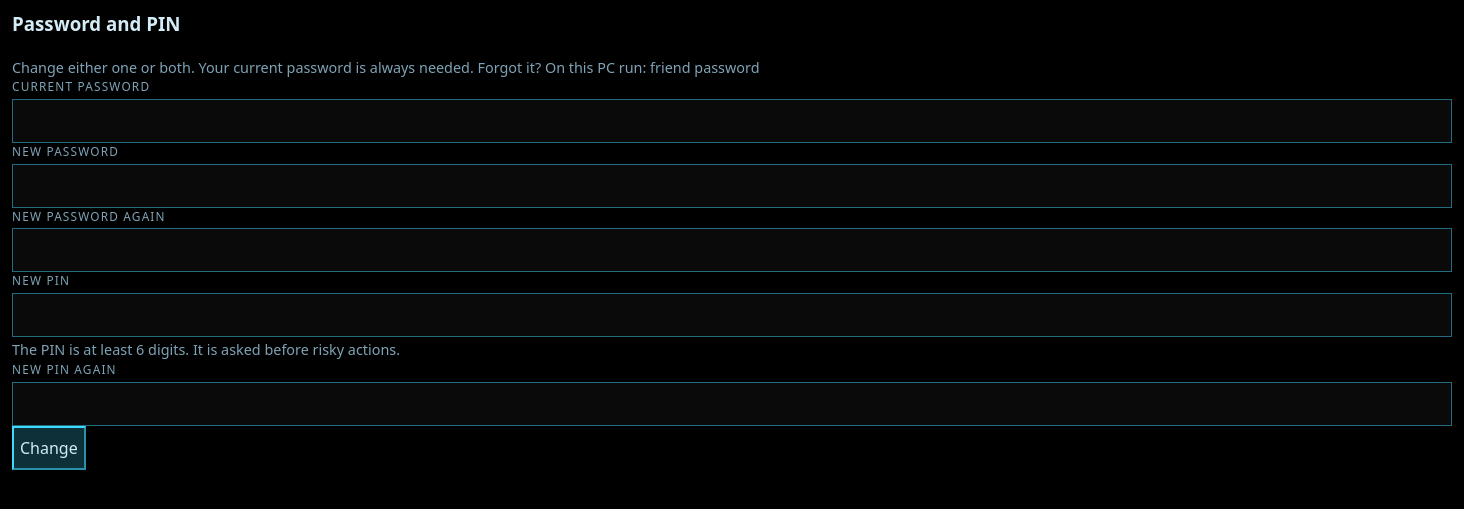
Test case: <SecurityTab> › sends the current password and a new password, says it worked and clears the boxes
Type "old password" into the password field labelled "Current password" at (732, 121), box x1=12 y1=99 x2=1452 y2=143
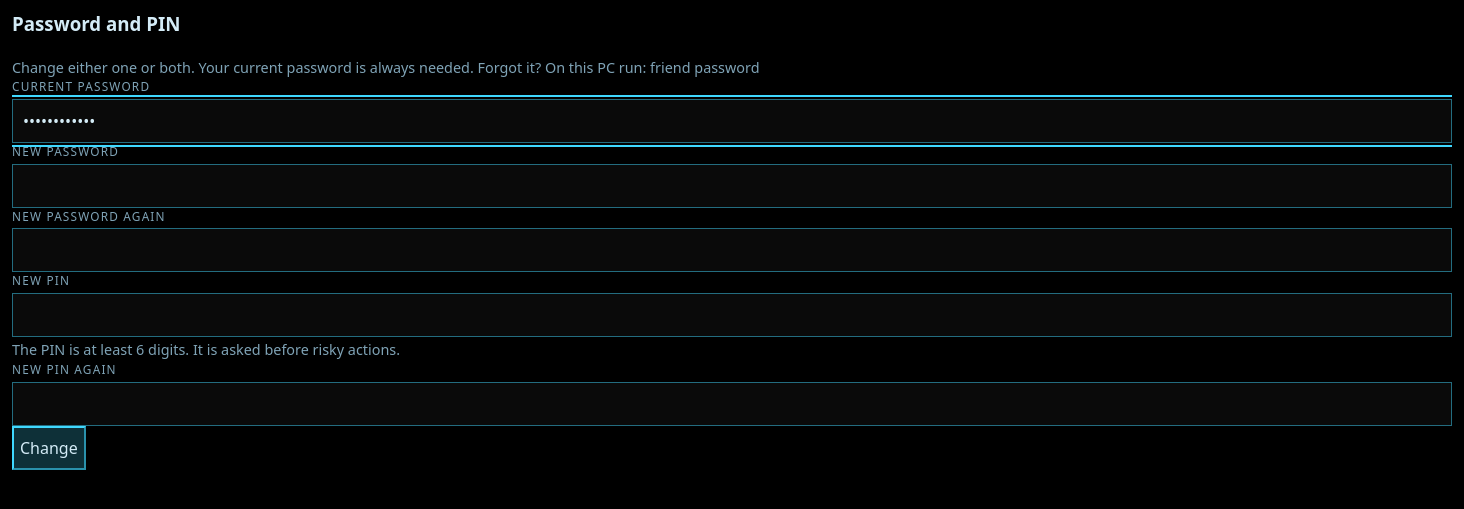
Type "a brand new password" into the password field labelled "New password" at (732, 186), box x1=12 y1=164 x2=1452 y2=208
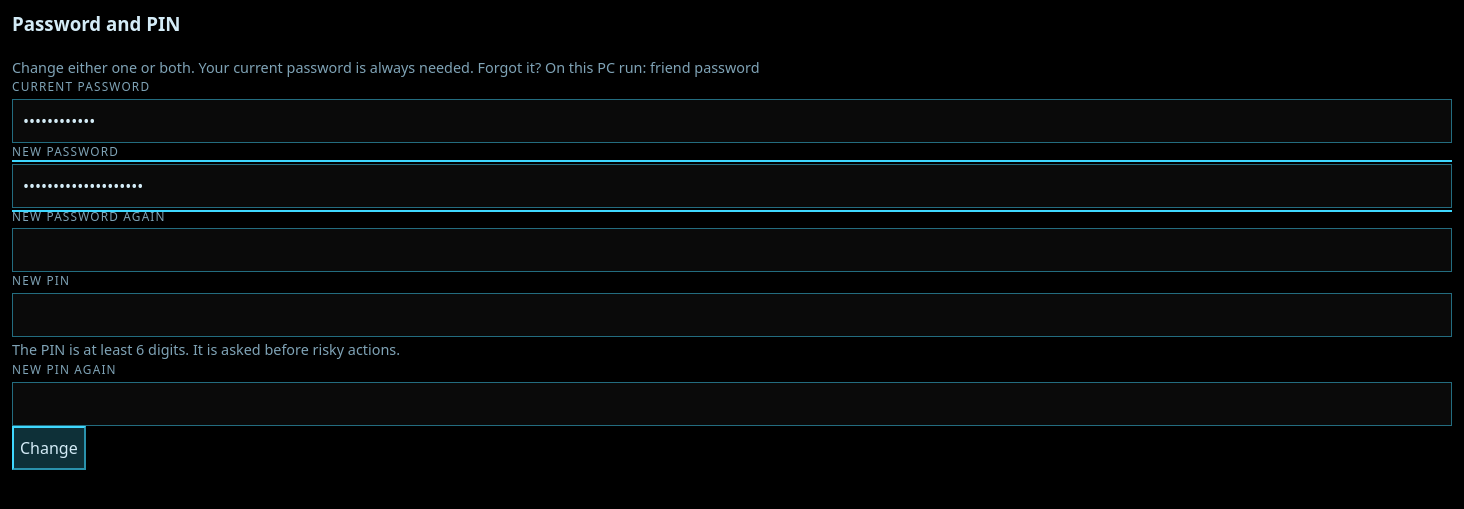
Type "a brand new password" into the password field labelled "New password again" at (732, 250), box x1=12 y1=228 x2=1452 y2=272
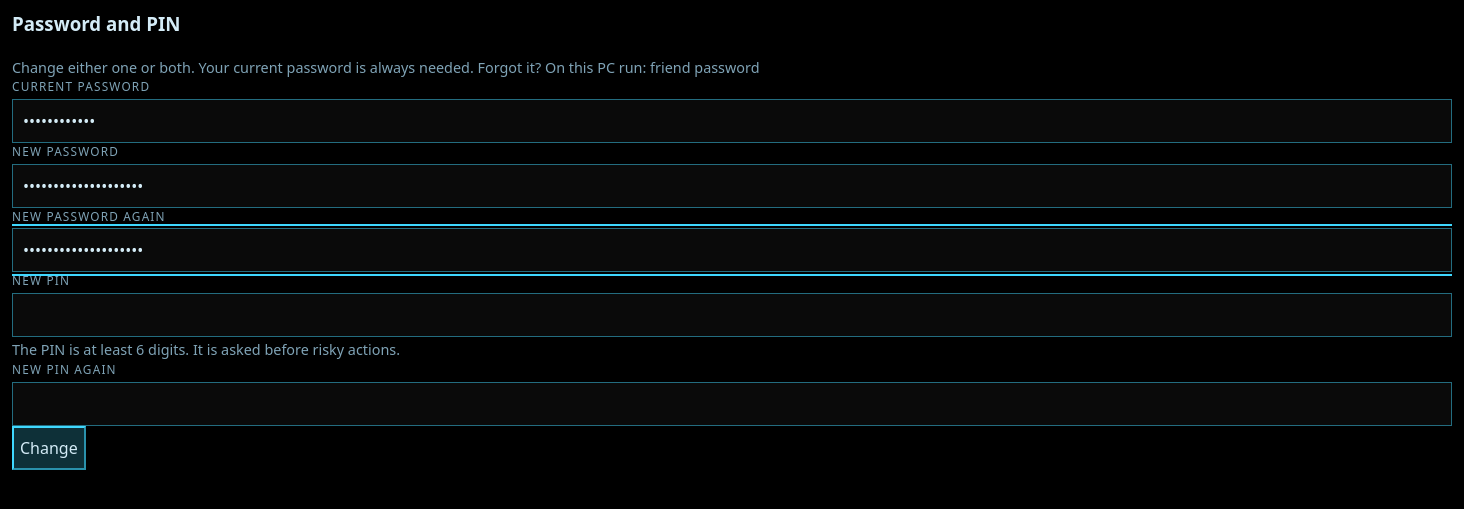
Click the button "Change" at (49, 448), box x1=12 y1=426 x2=86 y2=470
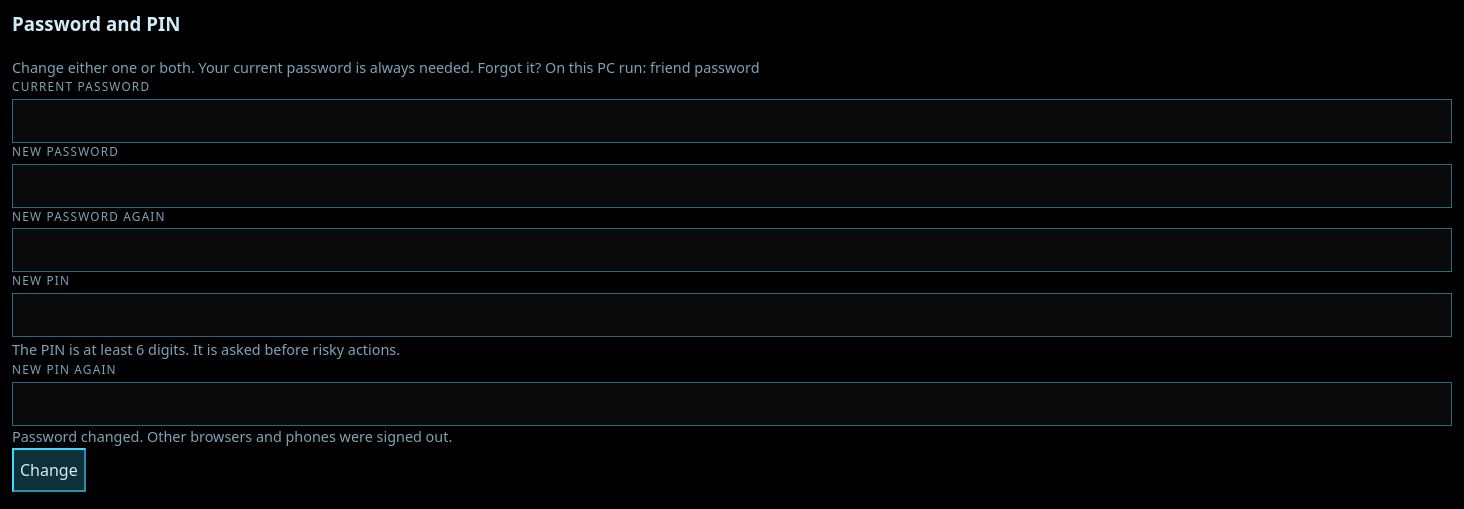
Now the message shows "Password changed. Other browsers and phones were signed out", box x1=12 y1=427 x2=452 y2=446
Now the password field labelled "Current password" is empty, box x1=12 y1=99 x2=1452 y2=143
